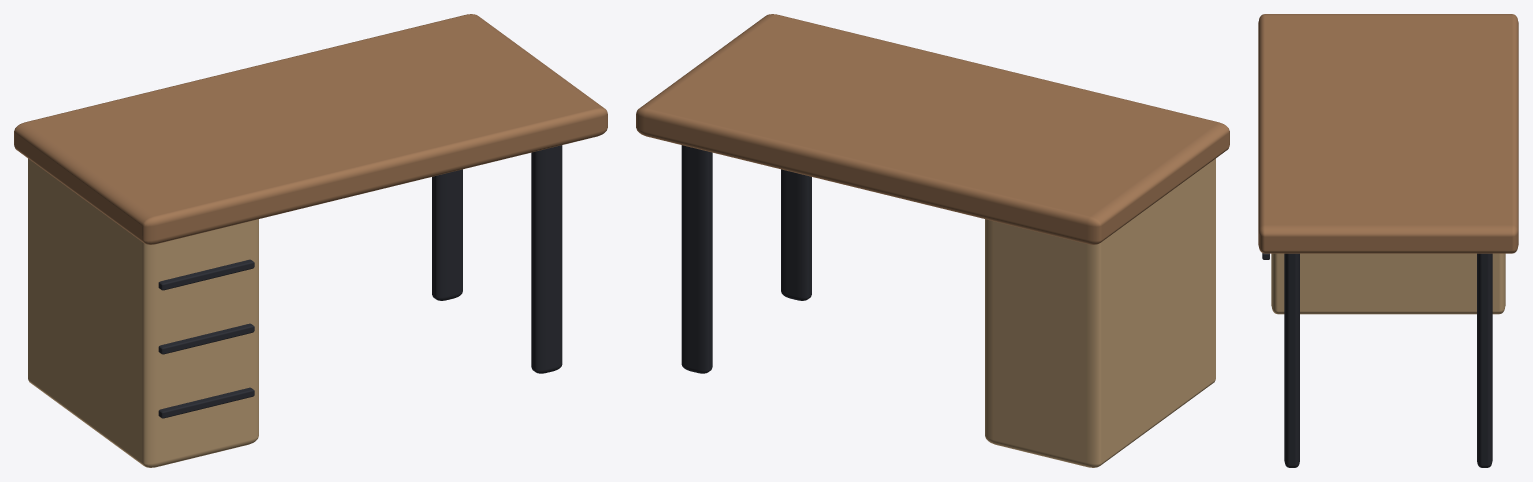
The model's file is office-desk.glb.
3 renders of one model, left to right at view 1: azimuth 30°, elevation 25°; view 2: azimuth 150°, elevation 25°; view 3: azimuth 270°, elevation 25°, orthographic. The views are drawn at different scales.
Size of the model in its own units: 1.4 by 0.76 by 0.7.
